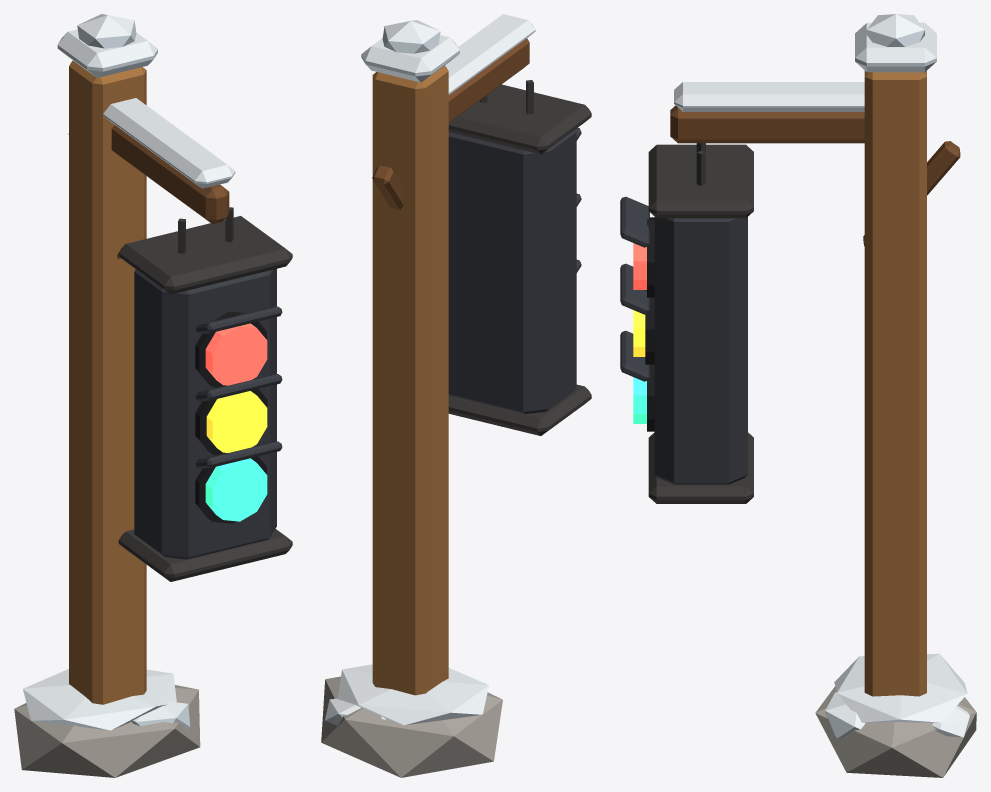
The model's file is start_light.glb.
The picture shows the model from 3 angles, left to right: view 1: azimuth 30°, elevation 25°; view 2: azimuth 150°, elevation 25°; view 3: azimuth 270°, elevation 25°; orthographic projection. The views are drawn at different scales.
Visible parts, largest first — view 1: start_light; view 2: start_light; view 3: start_light.
Boxes of the visible parts, x1,y1,x2,y2 form: start_light: (14, 14, 292, 777); start_light: (321, 14, 591, 777); start_light: (620, 14, 976, 777).
Bounding box in the file's own units: 0.515 × 2.13 × 0.9155.
